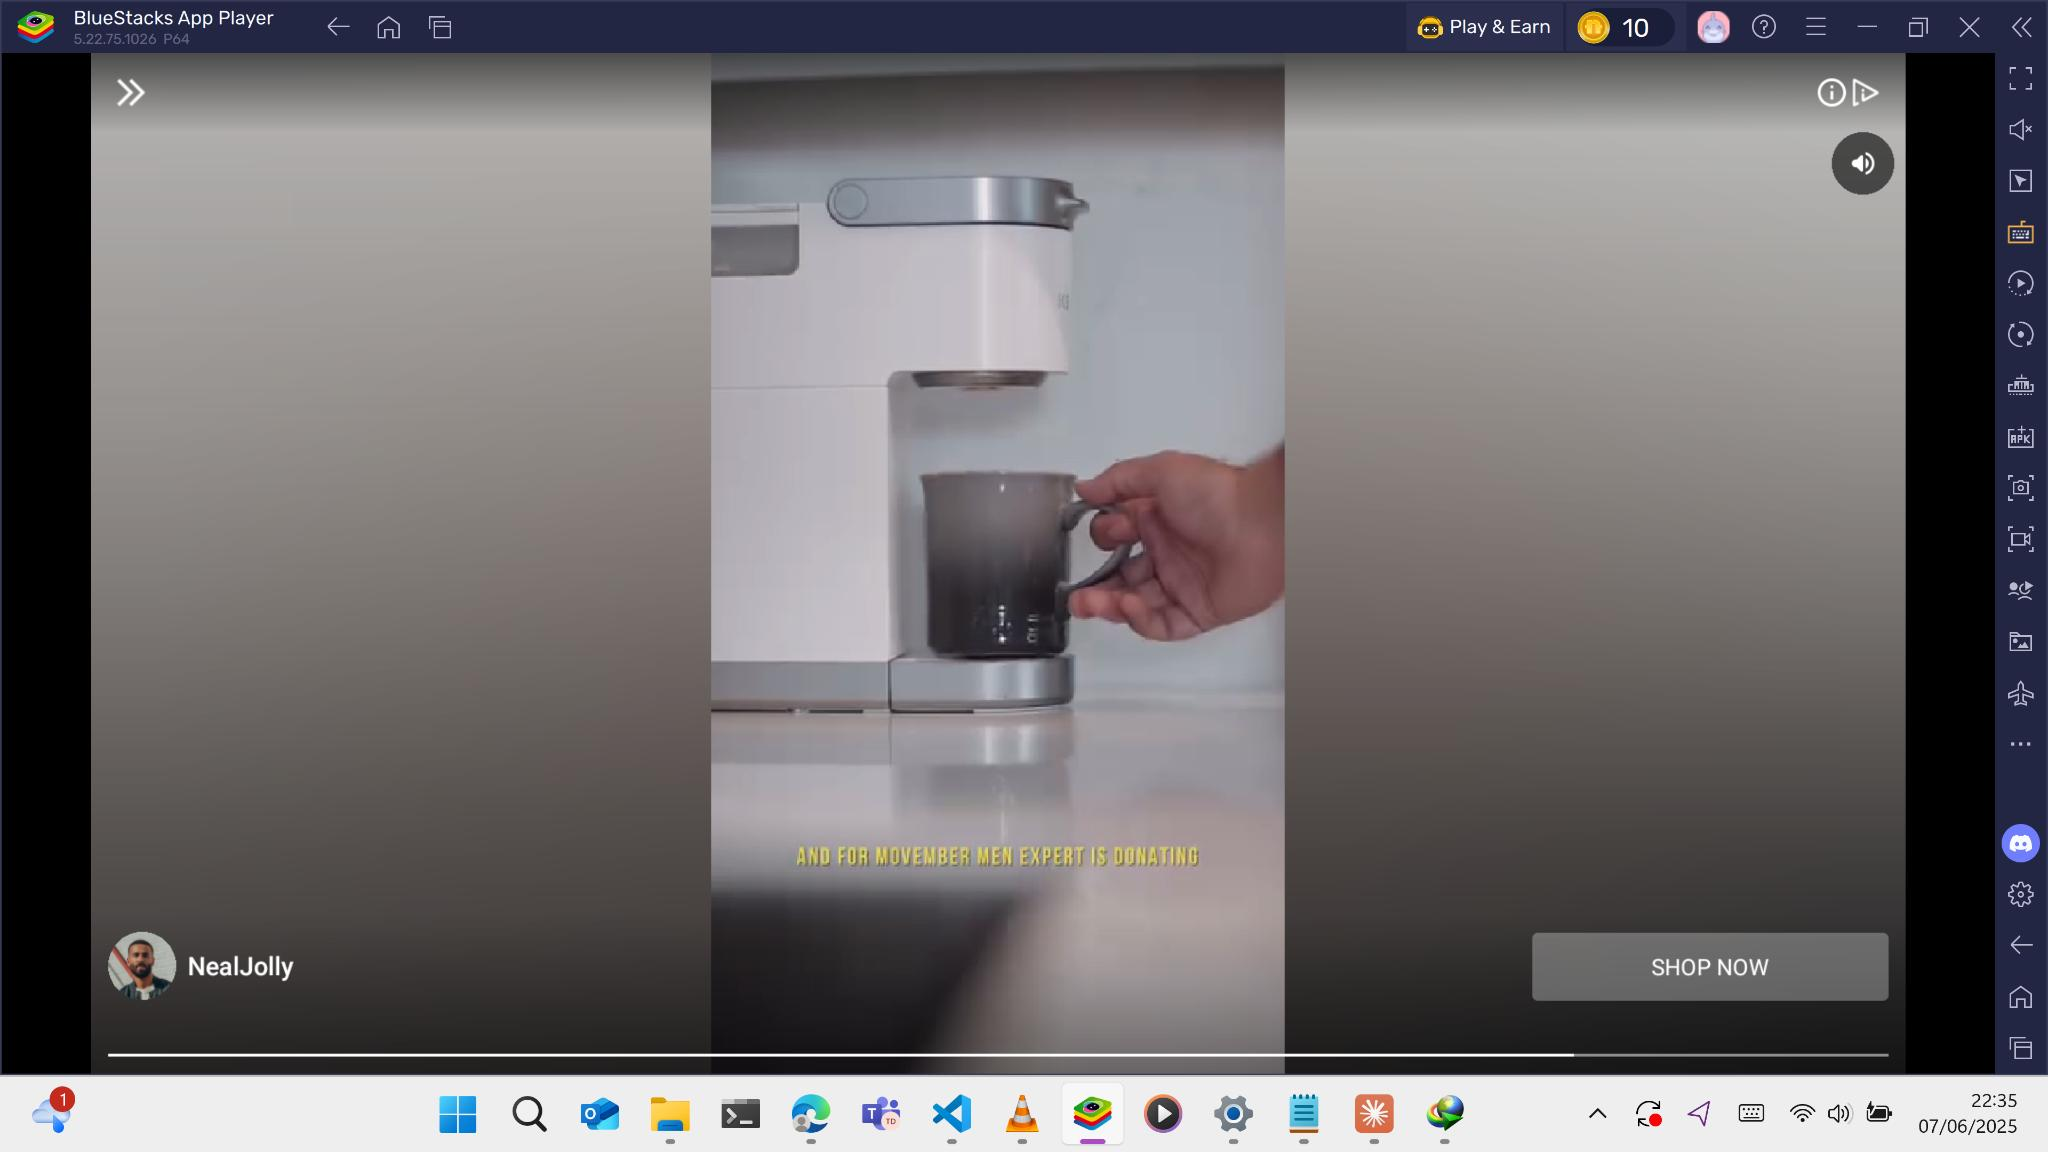skip_ad: (117, 77, 146, 107)
